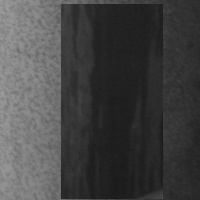inclusion: (61, 4, 163, 199)
pitted_surface: (26, 2, 188, 200)
